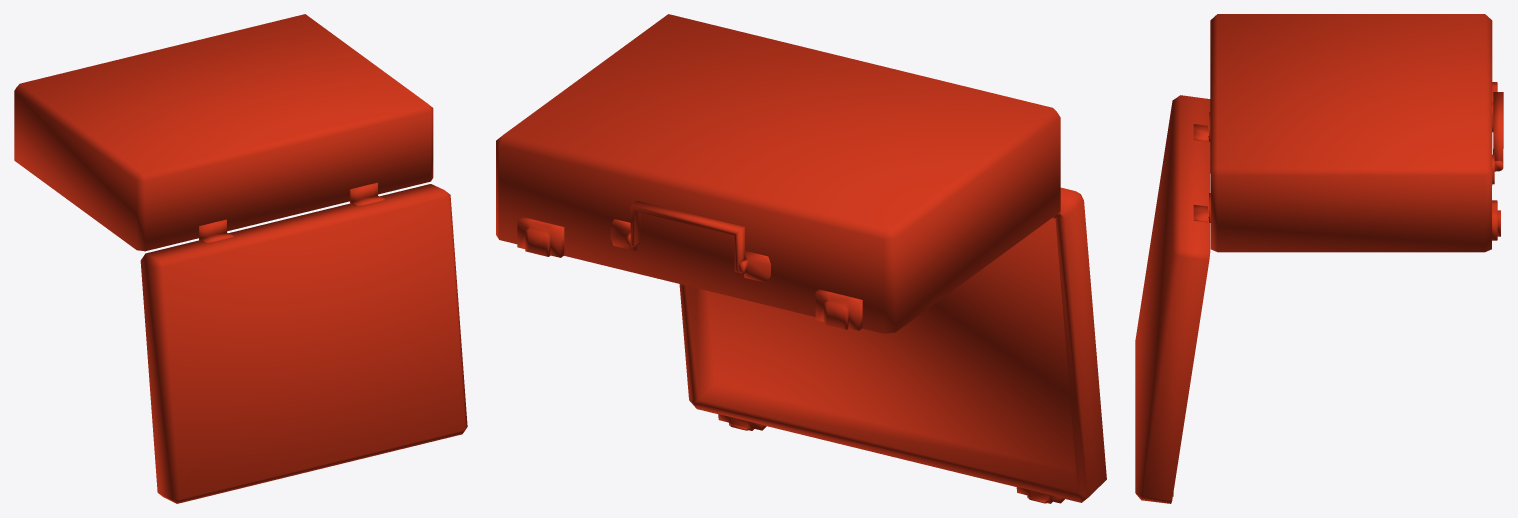
The model's file is Medical_Chest.fbx.
3 views of the same model, side by side, from view 1: azimuth 30°, elevation 25°; view 2: azimuth 150°, elevation 25°; view 3: azimuth 270°, elevation 25° (orthographic). The views are drawn at different scales.
Parts seen in each view (by area): view 1: Medical_Chest; view 2: Medical_Chest; view 3: Medical_Chest.
Boxes of the visible parts, x1,y1,x2,y2 form: Medical_Chest: (14,14,467,503); Medical_Chest: (496,14,1106,503); Medical_Chest: (1135,14,1503,503).
Bounding box in the file's own units: 1.55 × 1.57 × 1.52.
